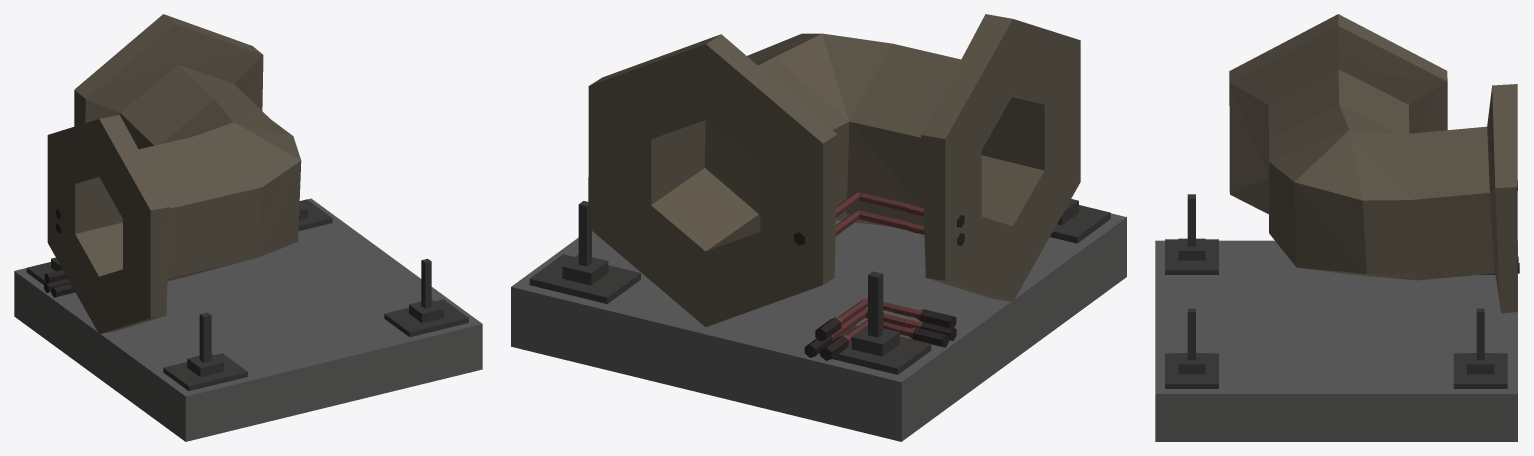
File: pipe-right.gltf
3 renders of one model, left to right at view 1: azimuth 30°, elevation 25°; view 2: azimuth 150°, elevation 25°; view 3: azimuth 270°, elevation 25°, orthographic. The views are drawn at different scales.
Parts seen in each view (by area): view 1: metalowa_zakret.004; view 2: metalowa_zakret.004; view 3: metalowa_zakret.004.
Part boxes in pixels (box(x1,y1,x2,y2)): metalowa_zakret.004: box(14, 14, 482, 441); metalowa_zakret.004: box(511, 14, 1126, 441); metalowa_zakret.004: box(1155, 14, 1519, 441).
Size of the model in its own units: 2.02 by 1.71 by 2.01.
1 material, 1 textured.
